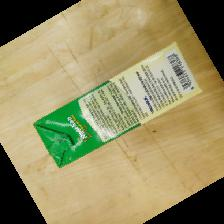NSPN_Hop: (30, 41, 202, 168)
